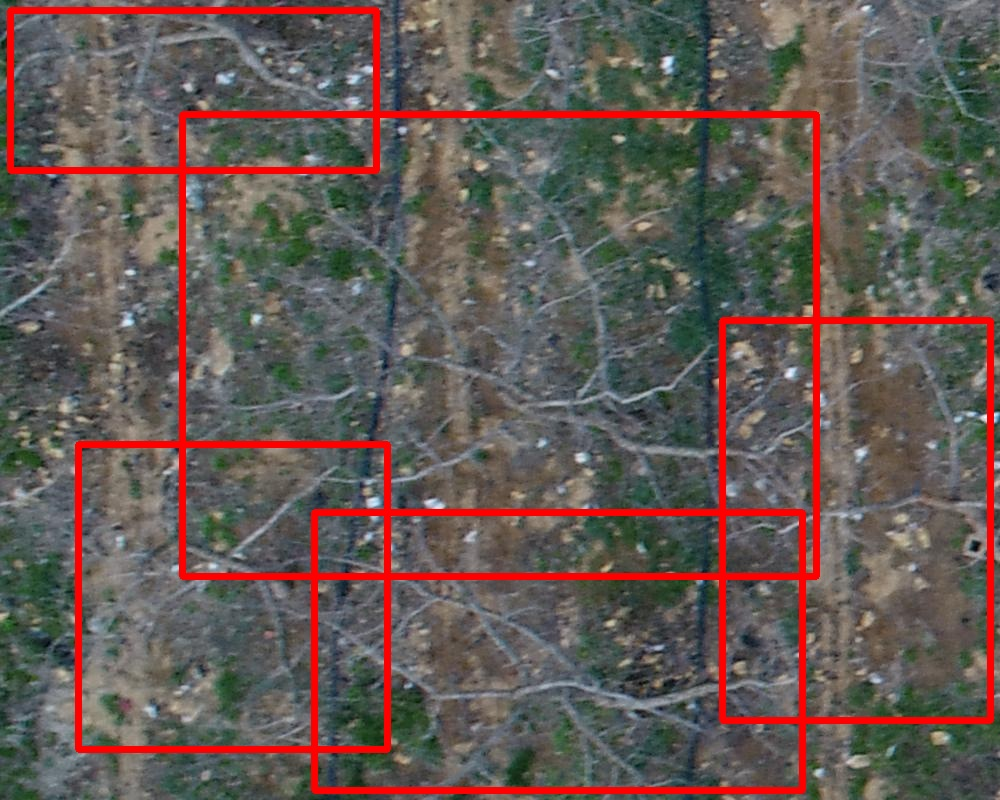apple: (182, 114, 816, 576), (314, 512, 802, 790), (722, 320, 990, 720), (78, 444, 387, 749), (10, 10, 376, 170)
